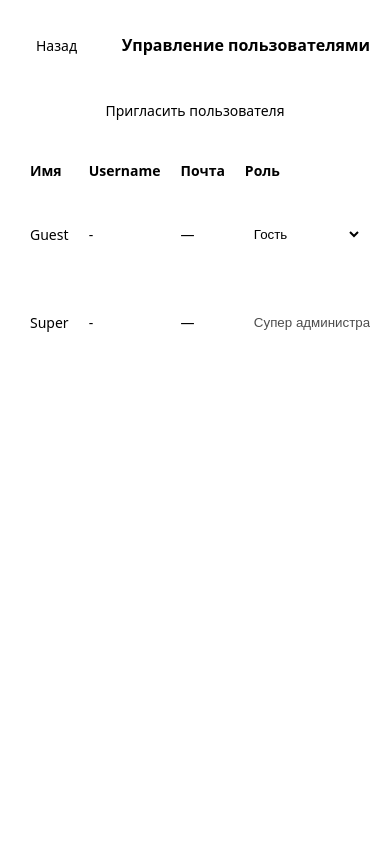
Scenario: AdminPage › shows web invite link only when web is in allowedProviders
The width and height of the screenshot is (390, 844).
Expected: the heading "Управление пользователями" is shown, [122, 33, 370, 57]
Click the button "Пригласить пользователя" at (195, 110), box [20, 90, 370, 130]
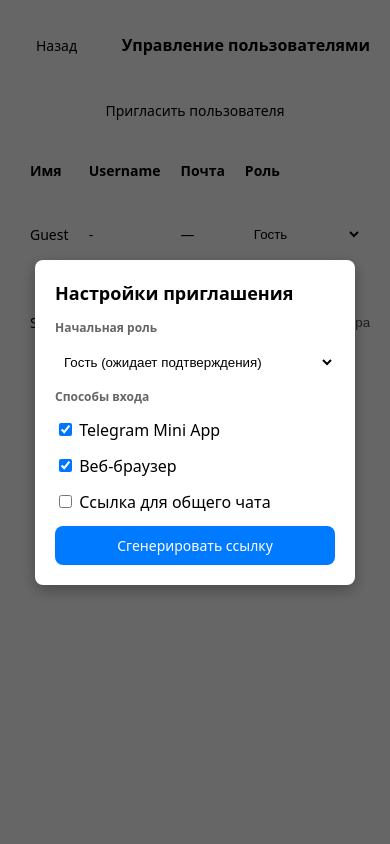
Click the checkbox labelled "Telegram Mini App" at (66, 429), box [59, 422, 72, 436]
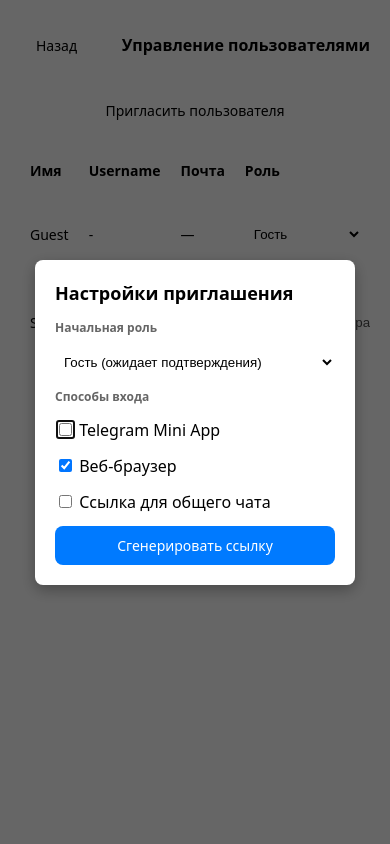
Click the button "Сгенерировать ссылку" at (195, 545), box [55, 526, 335, 564]
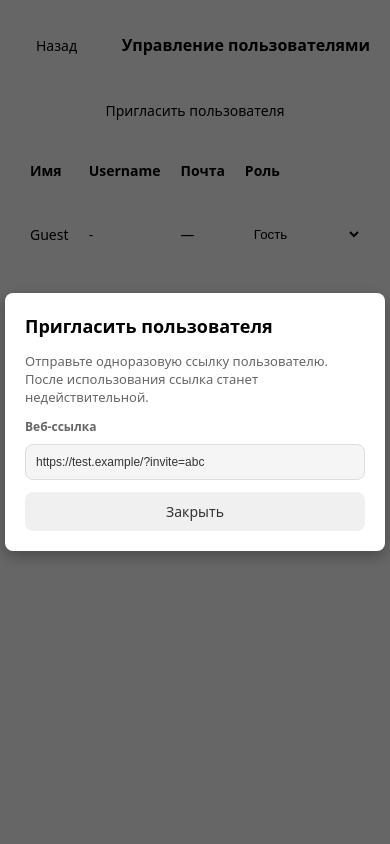
Expected: the field showing "https://test.example/?invite=abc" is shown, [25, 444, 365, 480]
